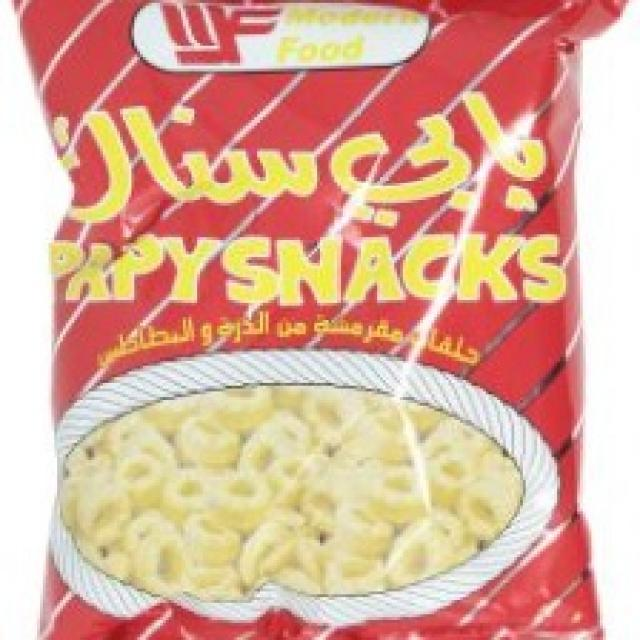plastic: (16, 1, 619, 640)
